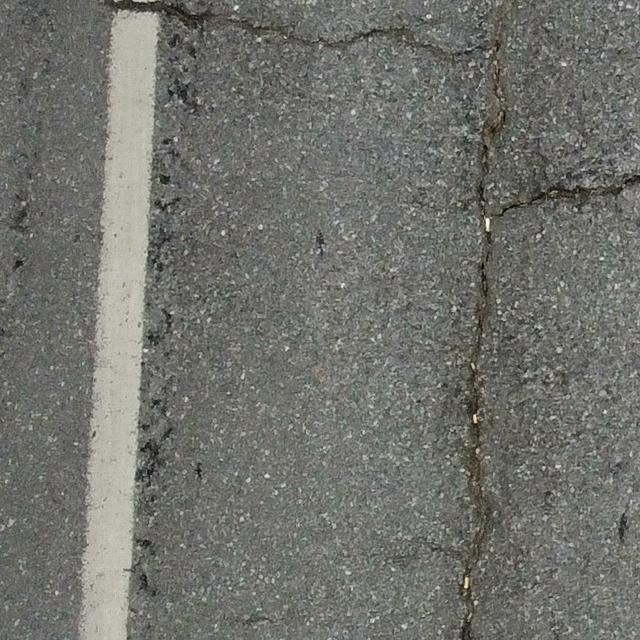LongitudinalCrack: (457, 3, 520, 640)
TransverseCrack: (105, 1, 484, 62), (495, 176, 640, 220)
